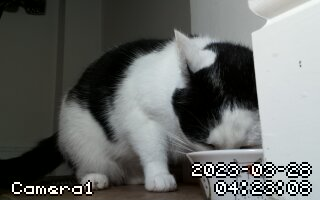bad: (35, 27, 263, 189)
